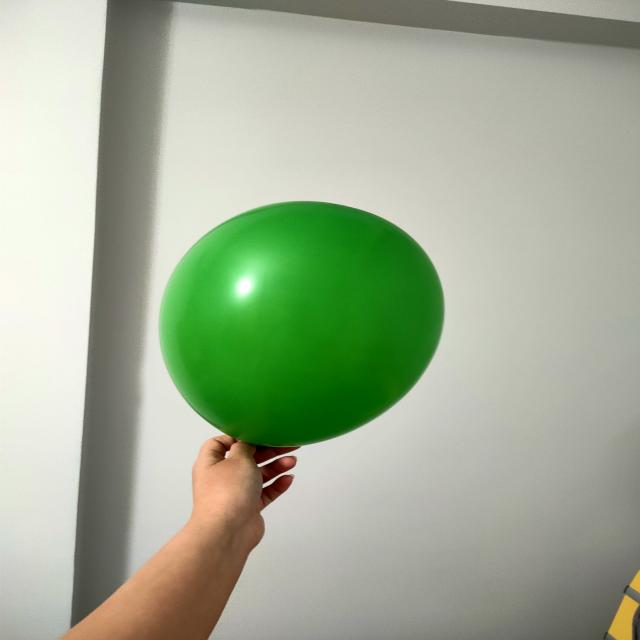green: (163, 202, 444, 450)
